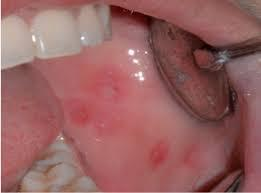Ulcer: (65, 73, 137, 137), (145, 136, 177, 172)
